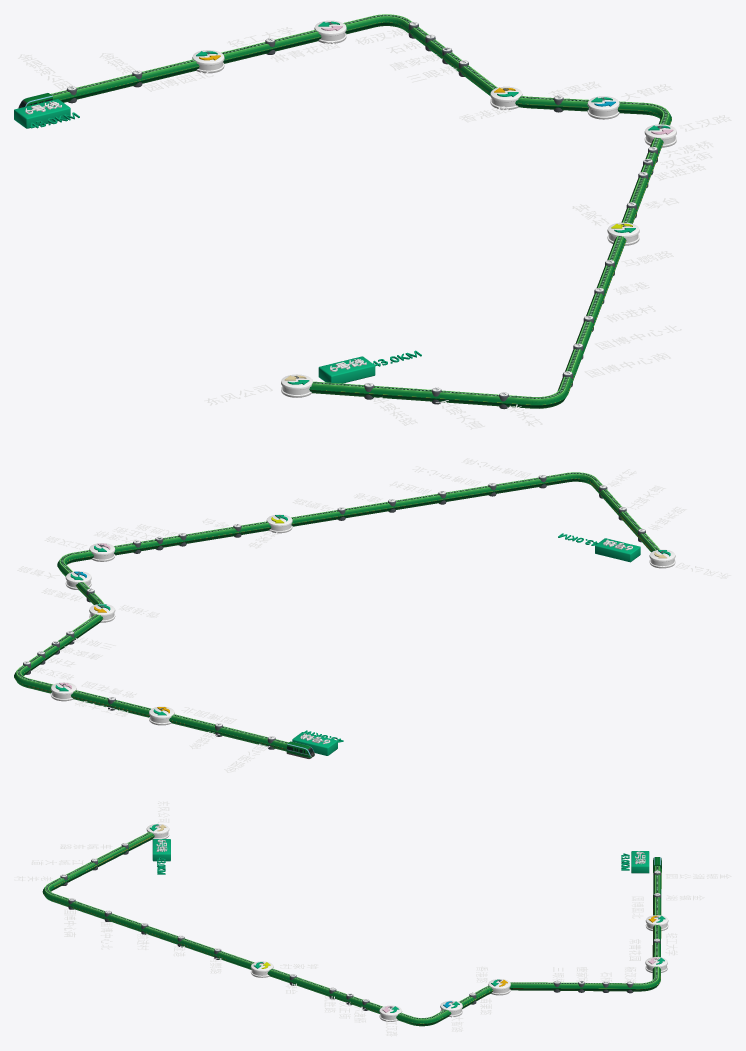
The picture shows the model from 3 angles, top to bottom: view 1: azimuth 30°, elevation 25°; view 2: azimuth 150°, elevation 25°; view 3: azimuth 270°, elevation 25°; orthographic projection. The views are drawn at different scales.
Parts seen in each view (by area): view 1: 6号线, Box018, psop-whgj-ybyb-园博园北, psop-whgj-cqhy-常青花园, Box005, psop-whgj-dfgs-东风公司, psop-whgj-dzl-大智路, psop-whgj-xgl-香港路, psop-whgj-zjc-钟家村, psop-whgj-jhl-江汉路; view 2: 6号线, Box018, psop-whgj-cqhy-常青花园, psop-whgj-ybyb-园博园北, psop-whgj-dfgs-东风公司, psop-whgj-zjc-钟家村, psop-whgj-jhl-江汉路, psop-whgj-xgl-香港路, Box005, psop-whgj-dzl-大智路; view 3: 6号线, psop-whgj-ybyb-园博园北, psop-whgj-cqhy-常青花园, psop-whgj-xgl-香港路, psop-whgj-zjc-钟家村, psop-whgj-dfgs-东风公司, psop-whgj-jhl-江汉路, psop-whgj-dzl-大智路.
Part boxes in pixels (x1,y1,x2,y2): 6号线: [50, 14, 671, 408]; Box018: [318, 356, 375, 383]; psop-whgj-ybyb-园博园北: [143, 50, 224, 91]; psop-whgj-cqhy-常青花园: [270, 20, 346, 62]; Box005: [14, 99, 70, 128]; psop-whgj-dfgs-东风公司: [204, 374, 312, 405]; psop-whgj-dzl-大智路: [587, 84, 672, 119]; psop-whgj-xgl-香港路: [459, 86, 522, 122]; psop-whgj-zjc-钟家村: [572, 204, 639, 245]; psop-whgj-jhl-江汉路: [644, 115, 731, 147]; 6号线: [14, 472, 659, 751]; Box018: [595, 538, 640, 562]; psop-whgj-cqhy-常青花园: [50, 681, 136, 701]; psop-whgj-ybyb-园博园北: [149, 706, 236, 725]; psop-whgj-dfgs-东风公司: [649, 549, 731, 578]; psop-whgj-zjc-钟家村: [248, 514, 292, 548]; psop-whgj-jhl-江汉路: [44, 536, 115, 561]; psop-whgj-xgl-香港路: [89, 604, 159, 622]; Box005: [292, 732, 337, 755]; psop-whgj-dzl-大智路: [17, 566, 91, 590]; 6号线: [42, 832, 661, 1026]; psop-whgj-ybyb-园博园北: [631, 896, 668, 930]; psop-whgj-cqhy-常青花园: [629, 939, 667, 972]; psop-whgj-xgl-香港路: [476, 966, 510, 995]; psop-whgj-zjc-钟家村: [250, 961, 318, 977]; psop-whgj-dfgs-东风公司: [146, 801, 169, 839]; psop-whgj-jhl-江汉路: [379, 1005, 402, 1036]; psop-whgj-dzl-大智路: [440, 1000, 463, 1032].
Size of the model in its own units: 2.69 by 0.0593 by 3.46.
Materials: 11 (3 with a texture image).
